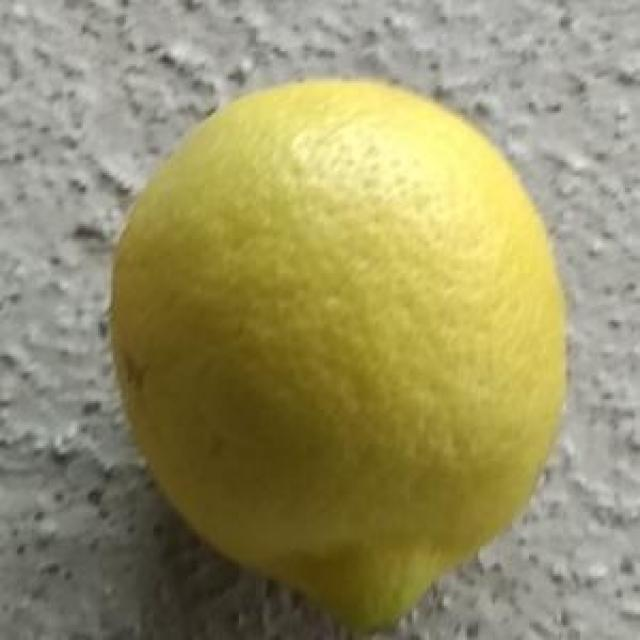lemon: (109, 80, 572, 631)
